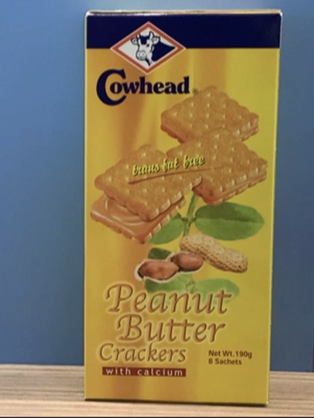crackers_100g-199g: (97, 34, 263, 386)
